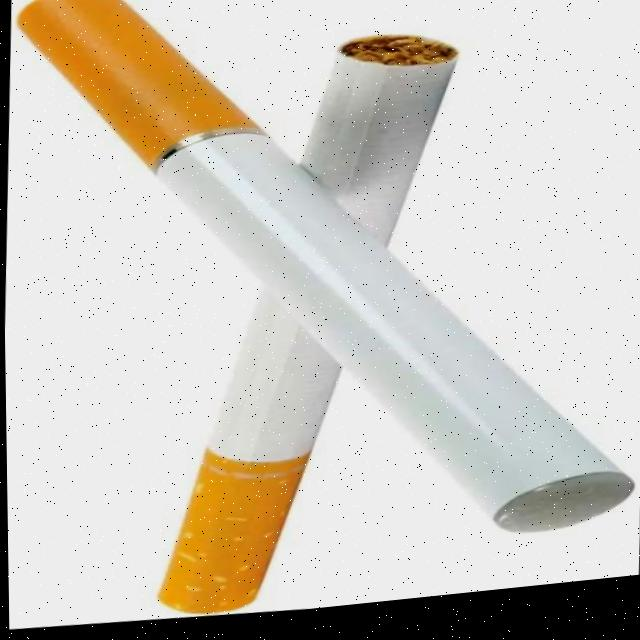cigarette: (16, 0, 635, 534), (158, 280, 340, 613), (299, 33, 458, 240)
